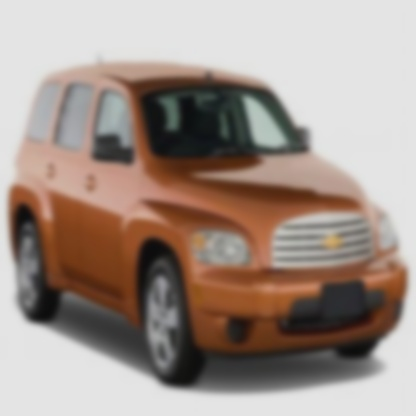Vehicle: (10, 64, 408, 400)
